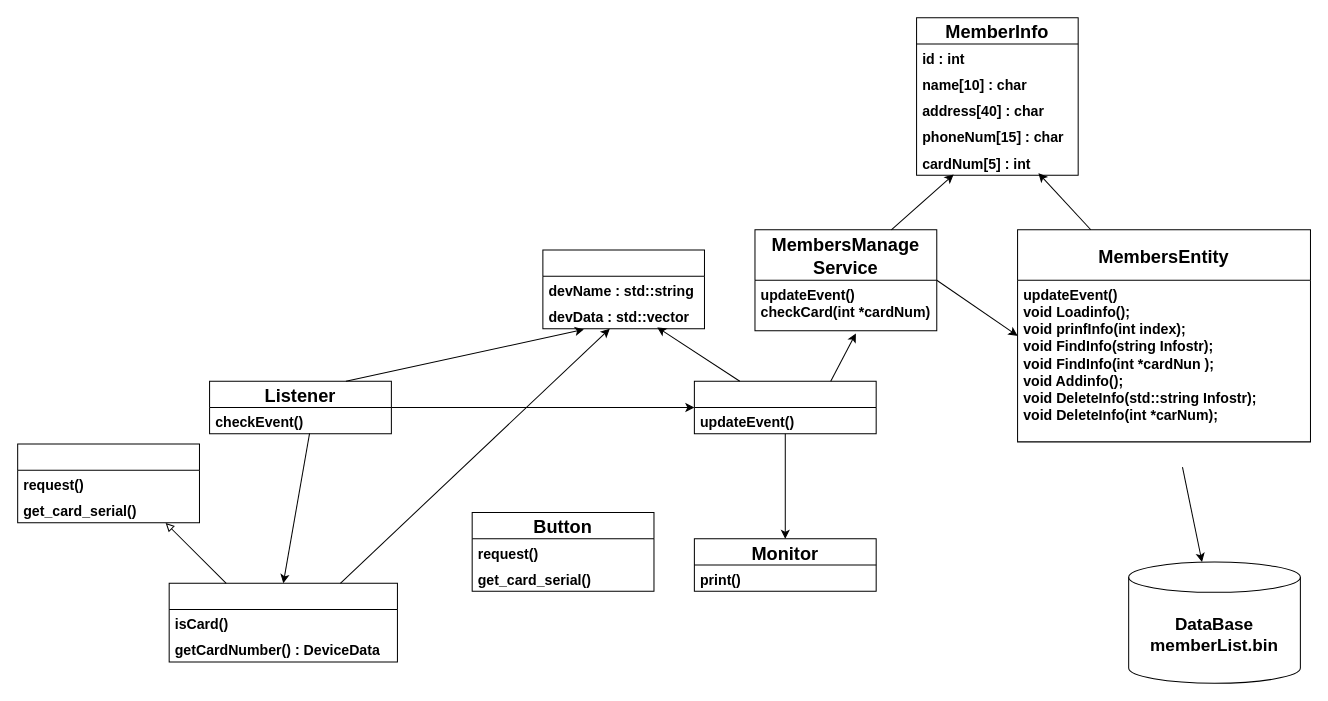
Image size: 1328x701. Some labels were removed from this diagram. The box of each missing label's shape, as (x1, y1, x2, y2) in pixels:
CardReader: (168, 582, 397, 662)
Controller: (693, 380, 876, 434)
DeviceData: (542, 249, 704, 329)
mfrc522: (17, 443, 199, 523)
